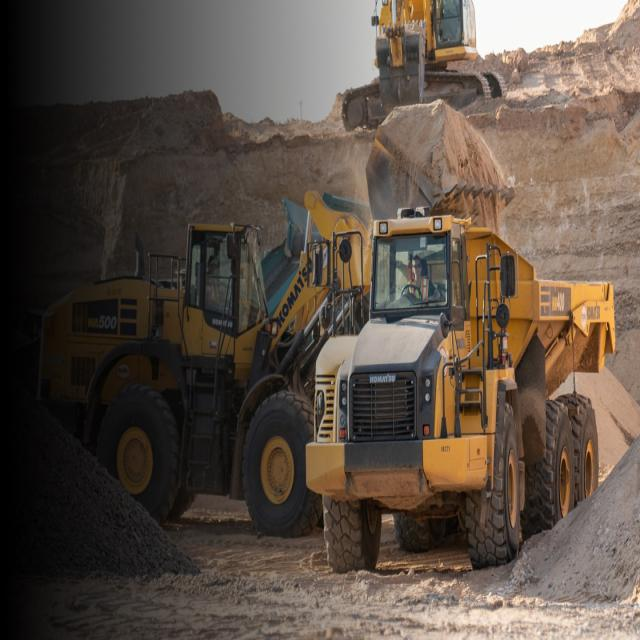buldozerpayloadergrader: (25, 152, 376, 541)
dump_truck: (304, 202, 632, 590)
excavator: (331, 0, 520, 151)
